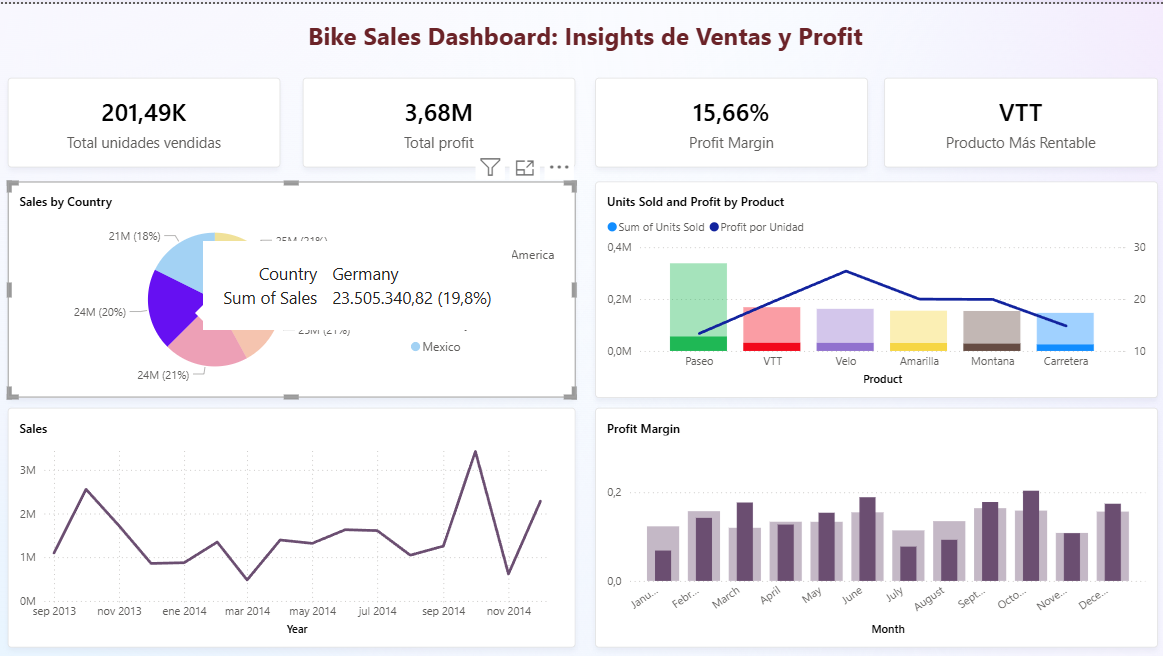

The page's visual inventory and layout, read from the dashboard file:
{"tool":"powerbi","page":{"name":"Page 1","canvas":[1280,720],"ordinal":0},"visuals":[{"type":"card","fields":{"Values":["financials.Total unidades vendidas"]},"box":[9.6,81,299.1,98.8],"z":0},{"type":"card","fields":{"Values":["financials.Total profit"]},"box":[333.4,81,299.1,98.8],"z":1000},{"type":"card","fields":{"Values":["financials.Profit Margin"]},"box":[654.5,81,299.1,98.8],"z":2000},{"type":"card","fields":{"Values":["financials.Producto Más Rentable"]},"box":[971.5,81,300.5,98.8],"z":3000},{"type":"pieChart","title":"Sales by Country","fields":{"Category":["financials.Country"],"Y":["Sum(financials.Sales)"]},"box":[9.6,194.9,623,237.4],"z":4000},{"type":"lineChart","title":"Sales","fields":{"Y":["financials.Ventas diarias"],"Category":["financials.Date.Variation.Date Hierarchy.Year","financials.Date.Variation.Date Hierarchy.Quarter","financials.Date.Variation.Date Hierarchy.Month"]},"box":[9.6,443.2,623,263.5],"z":5000},{"type":"lineClusteredColumnComboChart","title":"Units Sold and Profit by Product","fields":{"Category":["financials.Product"],"Y":["Sum(financials.Units Sold)"],"Y2":["financials.Profit por Unidad"]},"box":[654.5,194.9,617.5,237.4],"z":6000},{"type":"columnChart","title":"Profit Margin","fields":{"Category":["financials.Date.Variation.Date Hierarchy.Month"],"Y":["financials.Profit Margin"]},"box":[654.5,443.2,617.5,263.5],"z":7000},{"type":"textbox","box":[17.8,11,1251.5,46.7],"z":8000}]}

Visuals, with their boxes in screenshot pixels (x1, y1, x2, y2), scaled from the page's 1280x720 canvas onto the 1163x656 screenshot:
card - financials.Total unidades vendidas: BBox(9, 74, 280, 164)
card - financials.Total profit: BBox(303, 74, 575, 164)
card - financials.Profit Margin: BBox(595, 74, 866, 164)
card - financials.Producto Más Rentable: BBox(883, 74, 1156, 164)
"Sales by Country" pieChart: BBox(9, 178, 575, 394)
"Sales" lineChart: BBox(9, 404, 575, 644)
"Units Sold and Profit by Product" lineClusteredColumnComboChart: BBox(595, 178, 1156, 394)
"Profit Margin" columnChart: BBox(595, 404, 1156, 644)
textbox: BBox(16, 10, 1153, 53)
